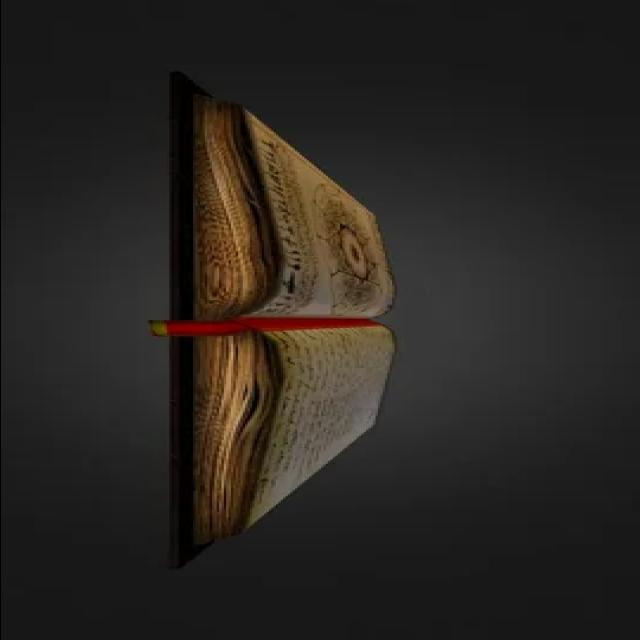book: (138, 82, 412, 574)
